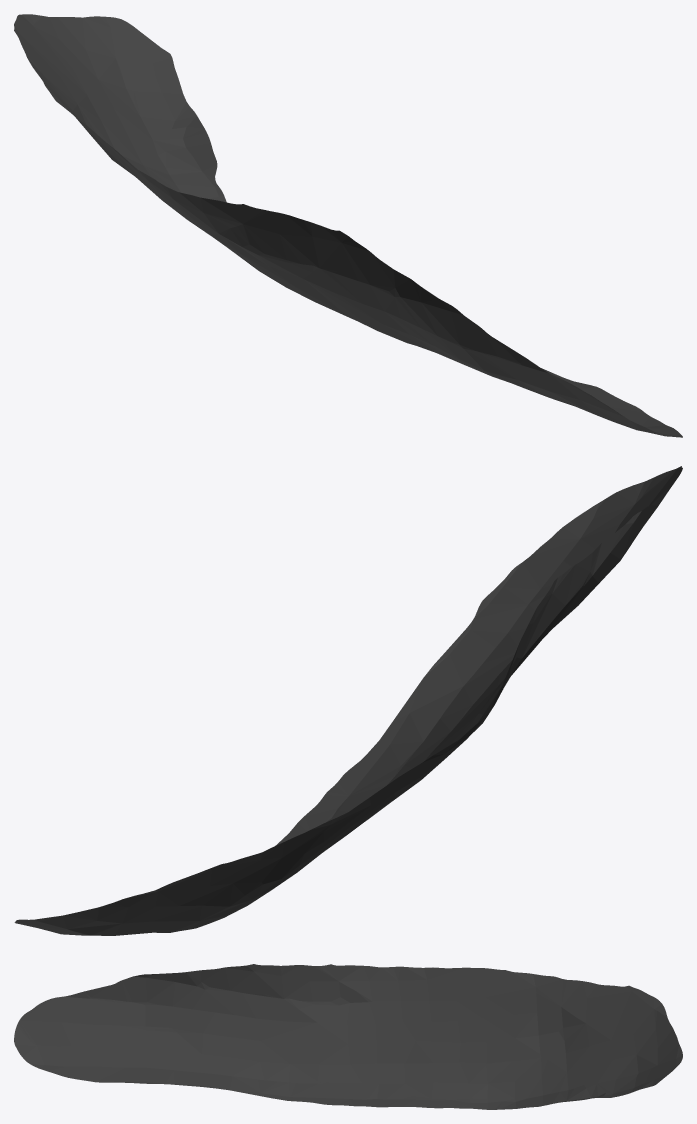
Rendered from lig_med_coll_prox_interphalang.glb.
The picture shows the model from 3 angles, top to bottom: view 1: azimuth 30°, elevation 25°; view 2: azimuth 150°, elevation 25°; view 3: azimuth 270°, elevation 25°; orthographic projection. The views are drawn at different scales.
Parts seen in each view (by area): view 1: lig_med_coll_prox_interphalang; view 2: lig_med_coll_prox_interphalang; view 3: lig_med_coll_prox_interphalang.
Part boxes in pixels (x1,y1,x2,y2): lig_med_coll_prox_interphalang: [14, 14, 682, 437]; lig_med_coll_prox_interphalang: [14, 466, 682, 935]; lig_med_coll_prox_interphalang: [14, 964, 682, 1109].
Bounding box in the file's own units: 0.0271 × 0.0213 × 0.1164.
Materials: 1 (1 with a texture image).
